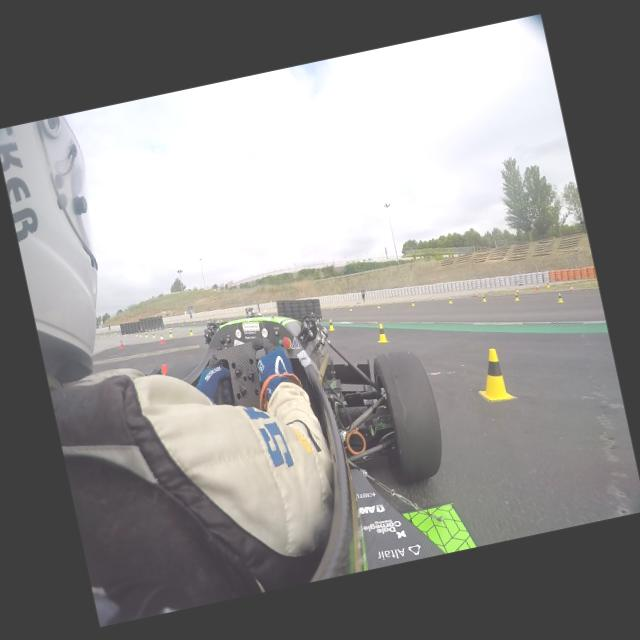orange_cone: (157, 334, 165, 344), (117, 339, 124, 349), (161, 364, 168, 374), (568, 284, 574, 292), (534, 282, 539, 290), (473, 290, 478, 298), (514, 288, 519, 294), (430, 294, 434, 300)
yellow_cone: (472, 346, 515, 404), (372, 321, 388, 344), (326, 318, 334, 331), (555, 292, 564, 302), (513, 293, 519, 301), (481, 294, 486, 302), (188, 327, 193, 335), (447, 296, 452, 304), (150, 332, 156, 338), (544, 281, 549, 288), (167, 331, 172, 336), (376, 302, 380, 308), (410, 300, 414, 306), (348, 305, 352, 311), (134, 331, 138, 336), (138, 332, 142, 337), (144, 332, 148, 337), (122, 332, 126, 337)
